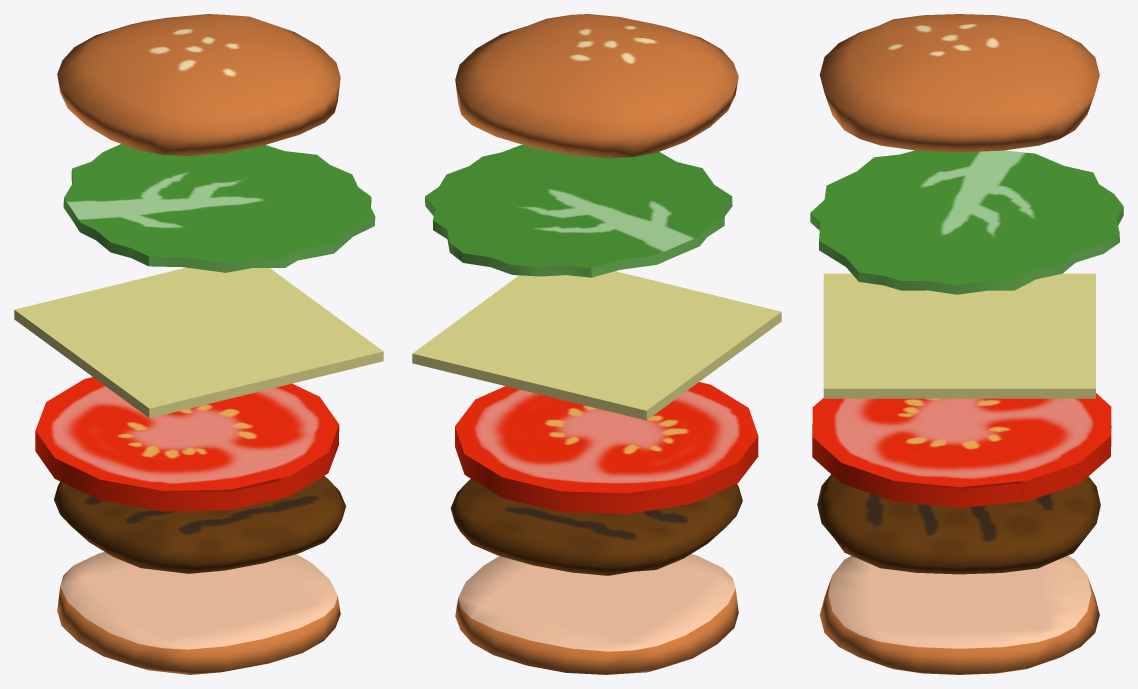
File: hamburger_loypoly.fbx
3 renders of one model, left to right at view 1: azimuth 30°, elevation 25°; view 2: azimuth 150°, elevation 25°; view 3: azimuth 270°, elevation 25°, orthographic.
Visible parts, largest first — view 1: polySurface3, polySurface6, polySurface4, polySurface5, polySurface1, polySurface2; view 2: polySurface3, polySurface6, polySurface4, polySurface5, polySurface1, polySurface2; view 3: polySurface4, polySurface6, polySurface3, polySurface5, polySurface1, polySurface2.
Part boxes in pixels (bbox=[...]): polySurface3: bbox=[14, 267, 383, 418]; polySurface6: bbox=[57, 14, 340, 155]; polySurface4: bbox=[63, 144, 375, 272]; polySurface5: bbox=[35, 377, 339, 511]; polySurface1: bbox=[57, 552, 340, 674]; polySurface2: bbox=[54, 476, 345, 573]; polySurface3: bbox=[412, 271, 781, 420]; polySurface6: bbox=[455, 14, 738, 158]; polySurface4: bbox=[425, 145, 732, 277]; polySurface5: bbox=[455, 382, 758, 513]; polySurface1: bbox=[455, 554, 738, 674]; polySurface2: bbox=[450, 479, 742, 575]; polySurface4: bbox=[810, 150, 1123, 294]; polySurface6: bbox=[820, 14, 1099, 152]; polySurface3: bbox=[823, 273, 1095, 398]; polySurface5: bbox=[812, 393, 1111, 507]; polySurface1: bbox=[820, 555, 1099, 674]; polySurface2: bbox=[817, 474, 1100, 574].
Size of the model in its own units: 1.58 by 3.01 by 1.45.
